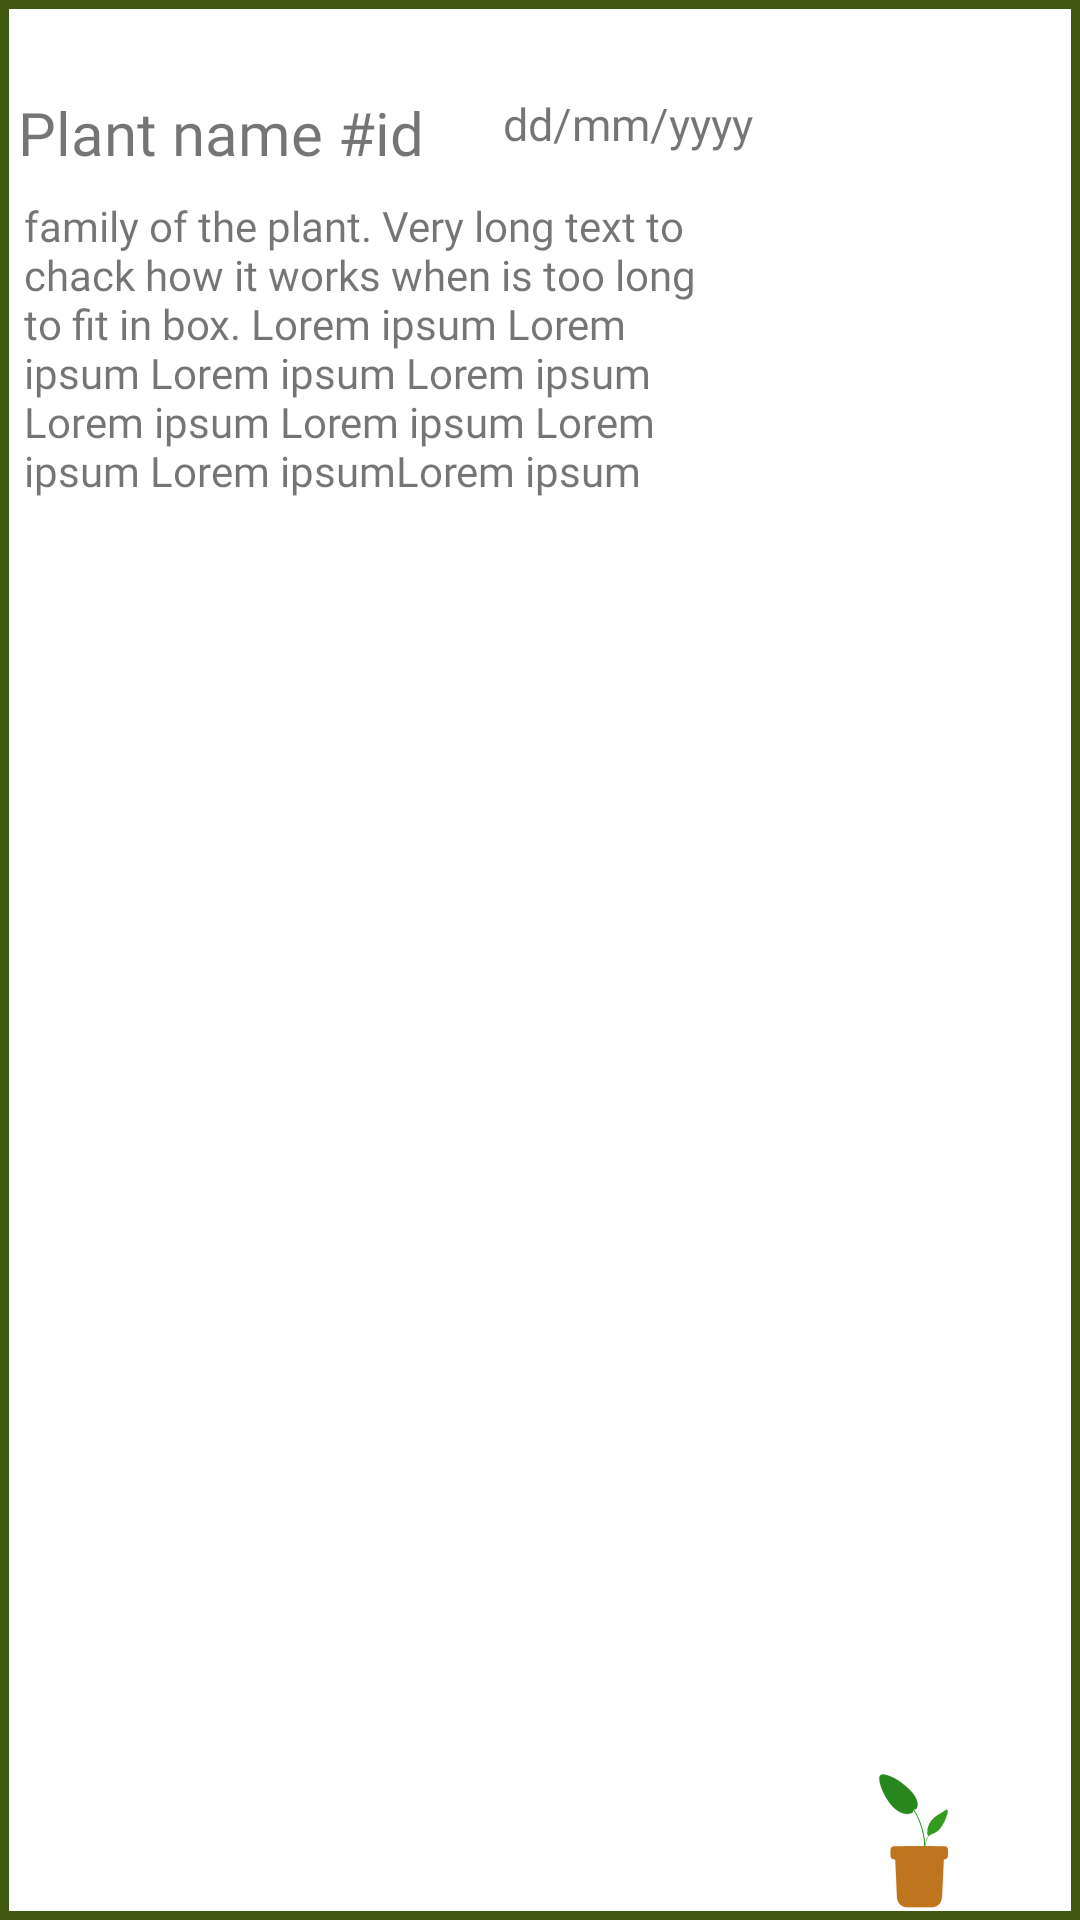

Icon bounding boxes for this 1080 x 1920 phone screenshot, format (x1, y1, x2, y2):
sizebaby: (879, 1774, 948, 1908)
